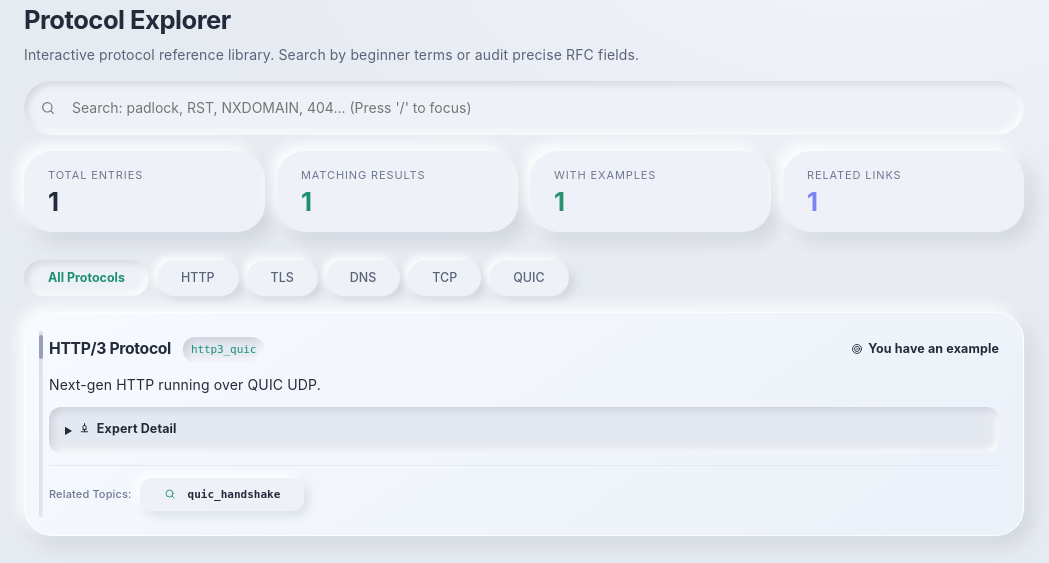
Test case: Explorer Screen & useExplorerController › navigates to related topic when related chip is clicked
Expected: the heading "HTTP/3 Protocol" is shown, [49,337,171,361]
Click the button "quic_handshake": coordinates (222, 494) [140,478,304,511]
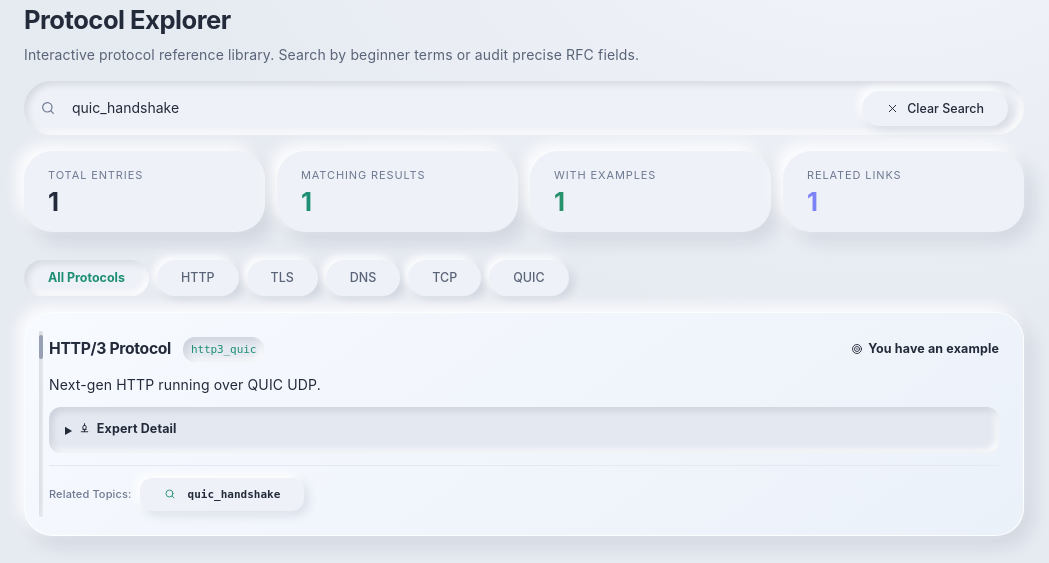
Result: the search field with placeholder "Search: padlock, RST, NXDOMAIN, 404... (Press '/' to focus)" holds "quic_handshake" at [68,89,850,127]
